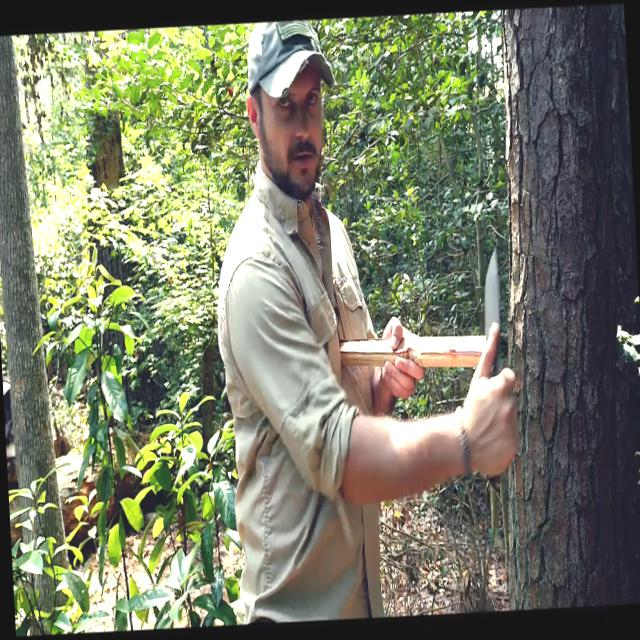knife: (470, 236, 522, 438)
